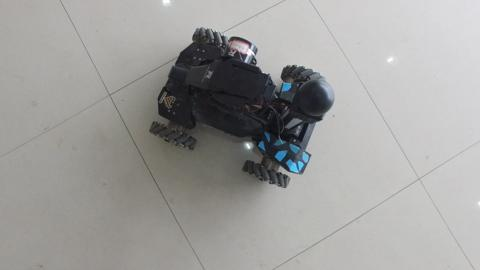chariot: (141, 17, 334, 198)
